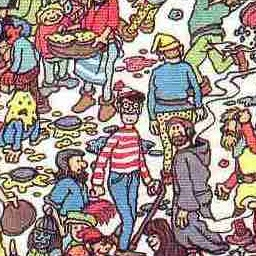waldo: (109, 77, 147, 179), (114, 79, 145, 130)
